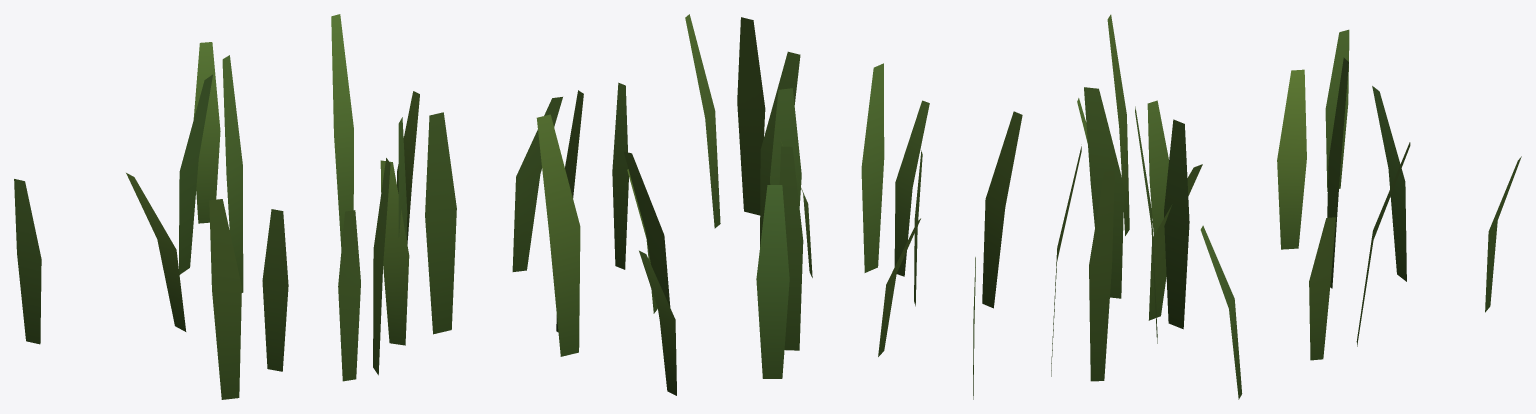
The model's file is grass_tuft_03.gltf.
3 views of the same model, side by side, from view 1: azimuth 30°, elevation 25°; view 2: azimuth 150°, elevation 25°; view 3: azimuth 270°, elevation 25° (orthographic). The views are drawn at different scales.
Visible parts, largest first — view 1: grass_tuft_03.blades; view 2: grass_tuft_03.blades; view 3: grass_tuft_03.blades.
Part boxes in pixels (x1,y1,x2,y2): grass_tuft_03.blades: (14,14,583,399); grass_tuft_03.blades: (612,14,1022,399); grass_tuft_03.blades: (1051,14,1521,399).
Size of the model in its own units: 0.1562 by 0.0735 by 0.1396.
